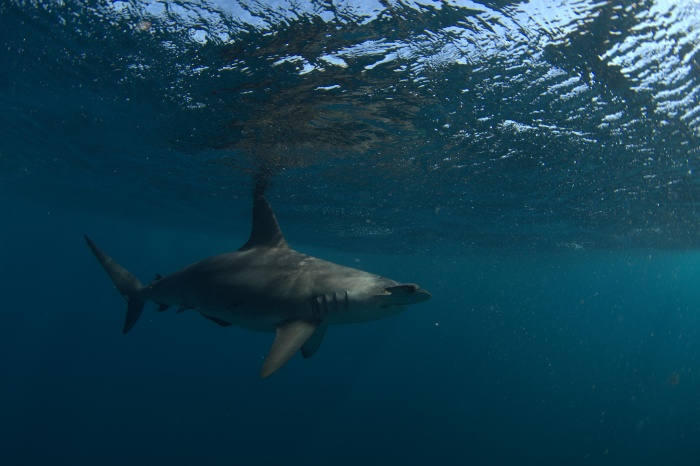Hammer: (59, 174, 455, 409)
